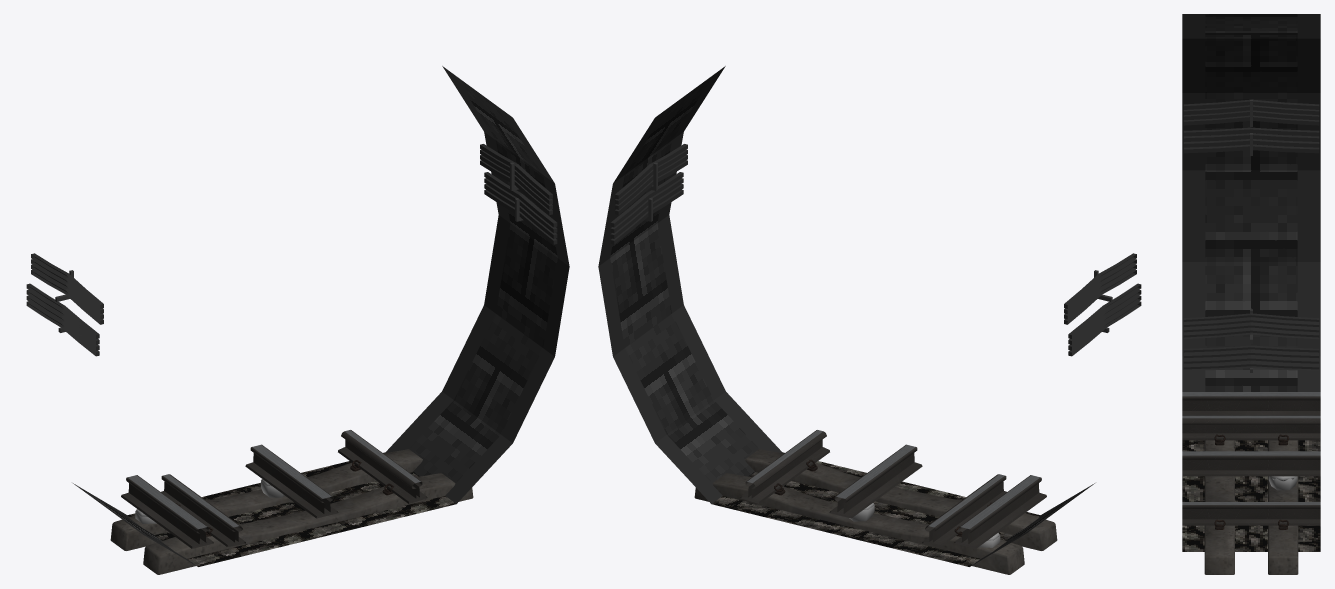
The picture shows the model from 3 angles, left to right: view 1: azimuth 30°, elevation 25°; view 2: azimuth 150°, elevation 25°; view 3: azimuth 270°, elevation 25°; orthographic projection. The views are drawn at different scales.
Visible parts, largest first — view 1: Cylinder_Cylinder.002, Full_LOD0_LOD0.007, Full_LOD0_LOD0, Full_LOD0_LOD0.002, cube.002_cube.008, cube.003_cube.009, Full_LOD0_LOD0.001, Full_LOD0_LOD0.003; view 2: Cylinder_Cylinder.002, Full_LOD0_LOD0.002, Full_LOD0_LOD0, Full_LOD0_LOD0.007, cube.002_cube.008, cube.003_cube.009, Full_LOD0_LOD0.001, Full_LOD0_LOD0.003; view 3: Cylinder_Cylinder.002, Full_LOD0_LOD0, cube.002_cube.008, cube.003_cube.009, Full_LOD0_LOD0.001, Full_LOD0_LOD0.003, Full_LOD0_LOD0.007, Full_LOD0_LOD0.002, Sphere.002, cube.001_cube.007.
Boxes of the visible parts, x1,y1,x2,y2 form: Cylinder_Cylinder.002: (73, 66, 569, 566); Full_LOD0_LOD0.007: (143, 473, 473, 574); Full_LOD0_LOD0: (161, 430, 427, 546); Full_LOD0_LOD0.002: (110, 449, 422, 550); cube.002_cube.008: (26, 172, 557, 356); cube.003_cube.009: (31, 144, 552, 324); Full_LOD0_LOD0.001: (245, 444, 338, 518); Full_LOD0_LOD0.003: (121, 475, 213, 548); Cylinder_Cylinder.002: (598, 66, 1094, 566); Full_LOD0_LOD0.002: (694, 473, 1024, 574); Full_LOD0_LOD0: (740, 430, 1006, 546); Full_LOD0_LOD0.007: (745, 449, 1057, 550); cube.002_cube.008: (610, 172, 1141, 356); cube.003_cube.009: (615, 144, 1136, 324); Full_LOD0_LOD0.001: (829, 444, 922, 518); Full_LOD0_LOD0.003: (954, 475, 1046, 548); Cylinder_Cylinder.002: (1182, 14, 1320, 551); Full_LOD0_LOD0: (1182, 415, 1320, 525); cube.002_cube.008: (1183, 127, 1319, 371); cube.003_cube.009: (1183, 99, 1319, 339); Full_LOD0_LOD0.001: (1182, 451, 1320, 476); Full_LOD0_LOD0.003: (1182, 392, 1320, 415); Full_LOD0_LOD0.007: (1204, 440, 1234, 574); Full_LOD0_LOD0.002: (1268, 440, 1298, 574); Sphere.002: (1268, 476, 1297, 490); cube.001_cube.007: (1250, 99, 1252, 372).
Bounding box in the file's own units: 4.03 × 3.73 × 1.02.
8 materials, 8 textured.
